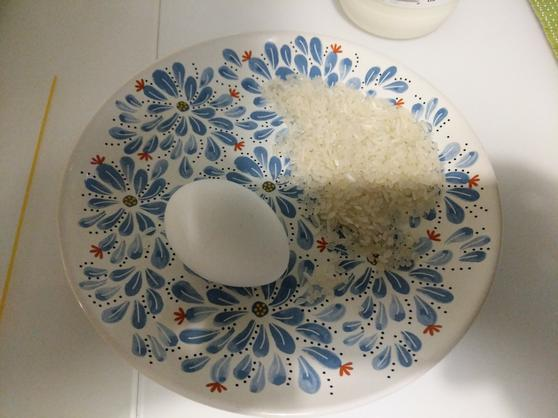egg: (154, 171, 293, 300)
rice: (289, 74, 458, 292)
